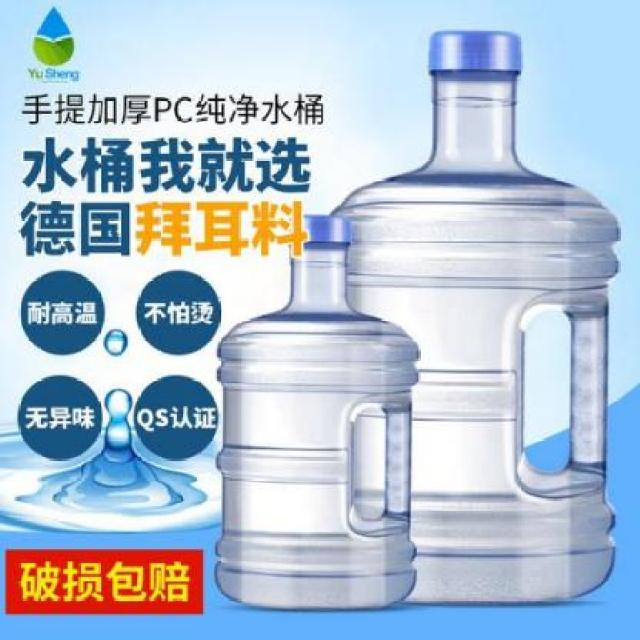coolerbottle: (208, 212, 424, 617)
